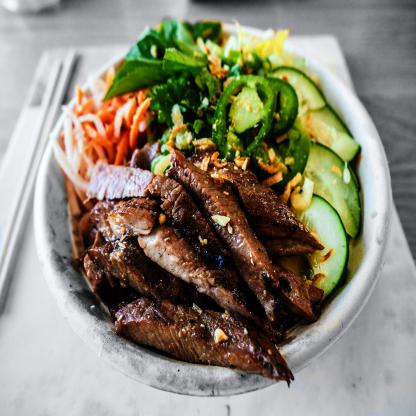Carne: (130, 169, 276, 338), (158, 152, 295, 319), (106, 300, 292, 386), (211, 166, 302, 260), (79, 244, 181, 292)
